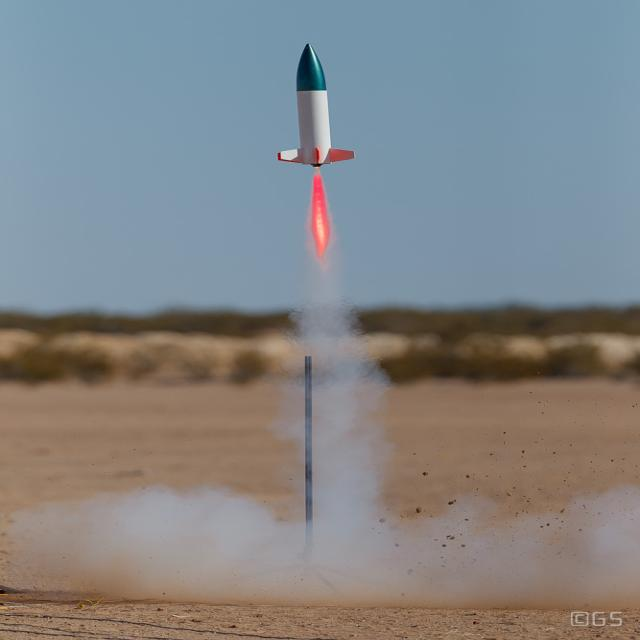Rocket: (276, 42, 358, 169)
